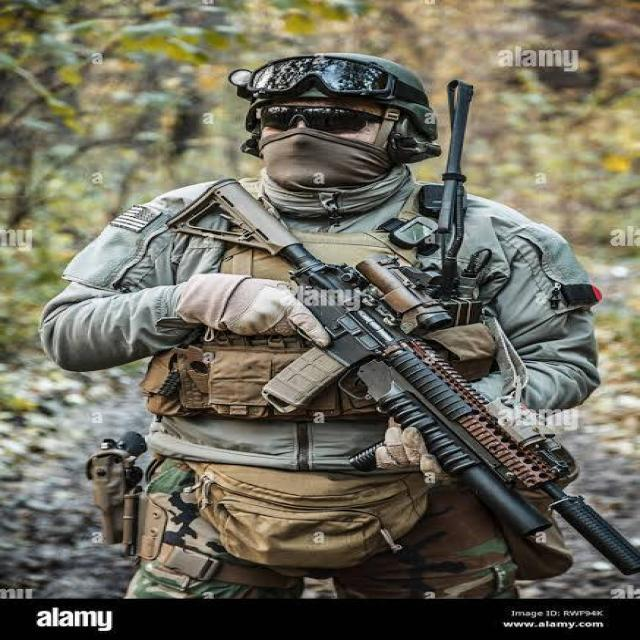m16: (149, 145, 640, 584)
